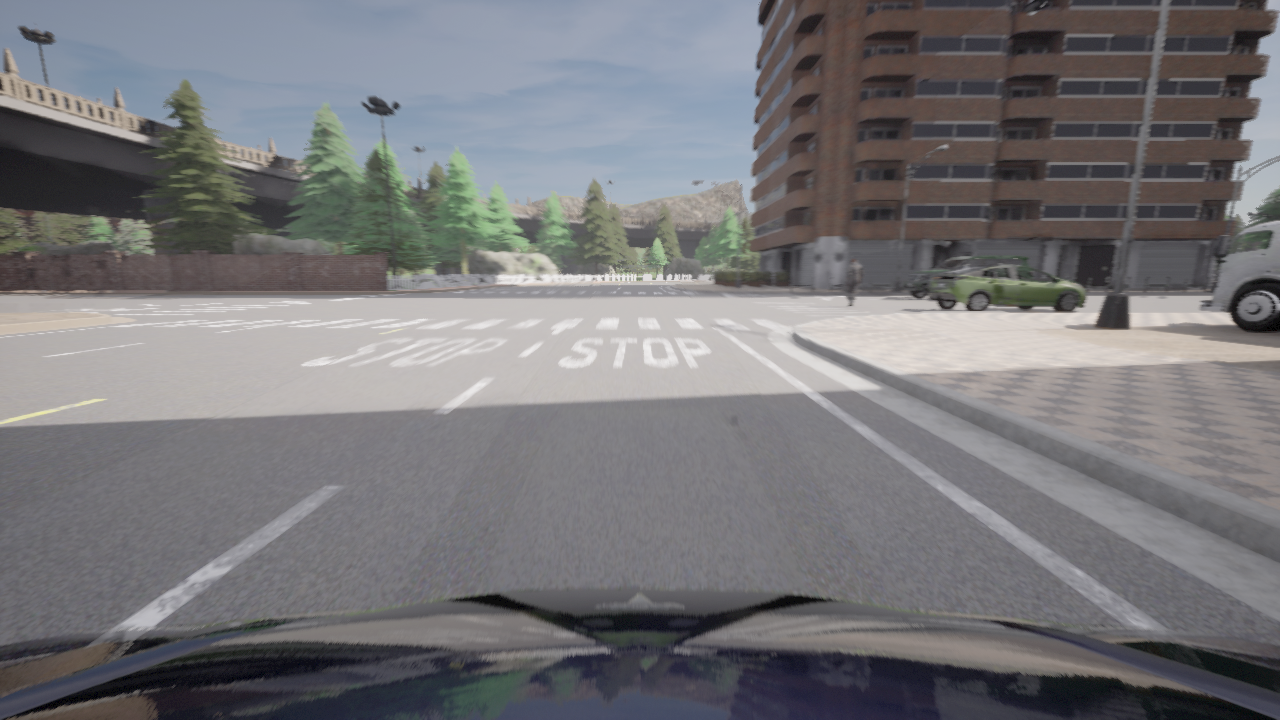cyclist: (0, 588, 1279, 719), (1200, 220, 1279, 331), (929, 265, 1085, 311), (903, 258, 1029, 288)
pedestrian: (843, 258, 862, 307)
